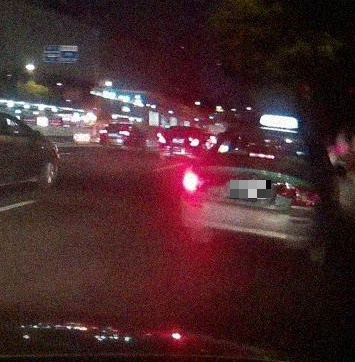L_light: (182, 168, 228, 193), (99, 129, 108, 134)
R_light: (275, 182, 321, 206), (118, 130, 131, 136)
T_light: (248, 151, 275, 160), (114, 124, 120, 126)
night-left: (180, 125, 324, 264)
night-no: (98, 123, 133, 148)
plate_1: (230, 180, 271, 199)
